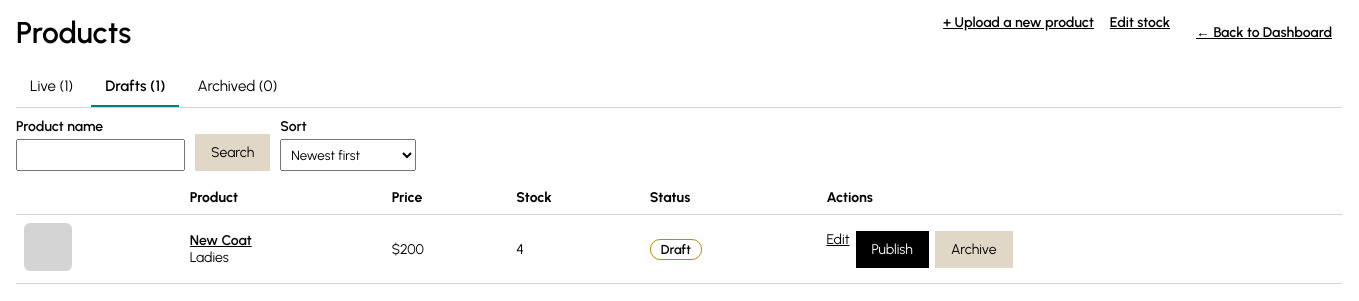
AdminProducts › publishes a draft, moving it out of the Drafts tab
Click the button with aria-label "Publish New Coat".
click(892, 249)  # box [856,230,929,268]
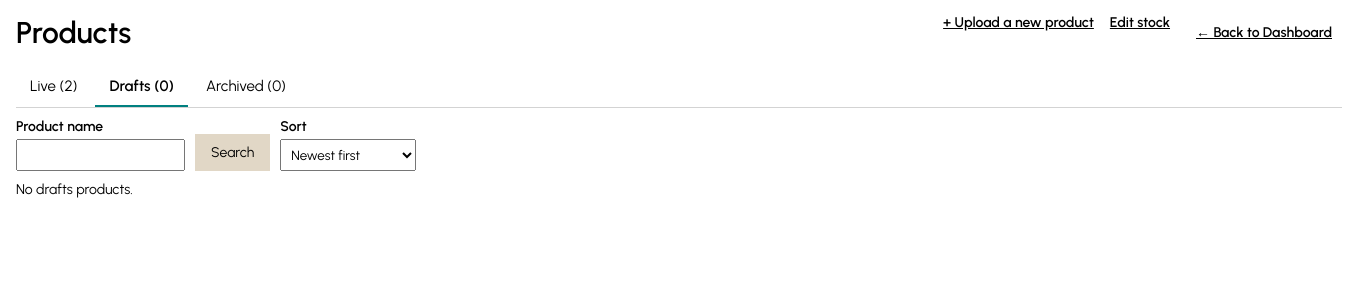
expect the link "New Coat" is gone: met
expect the tab "Live (2)" is shown: met, box [16,67,91,107]
expect the tab "Drafts (0)" is shown: met, box [95,67,188,107]
